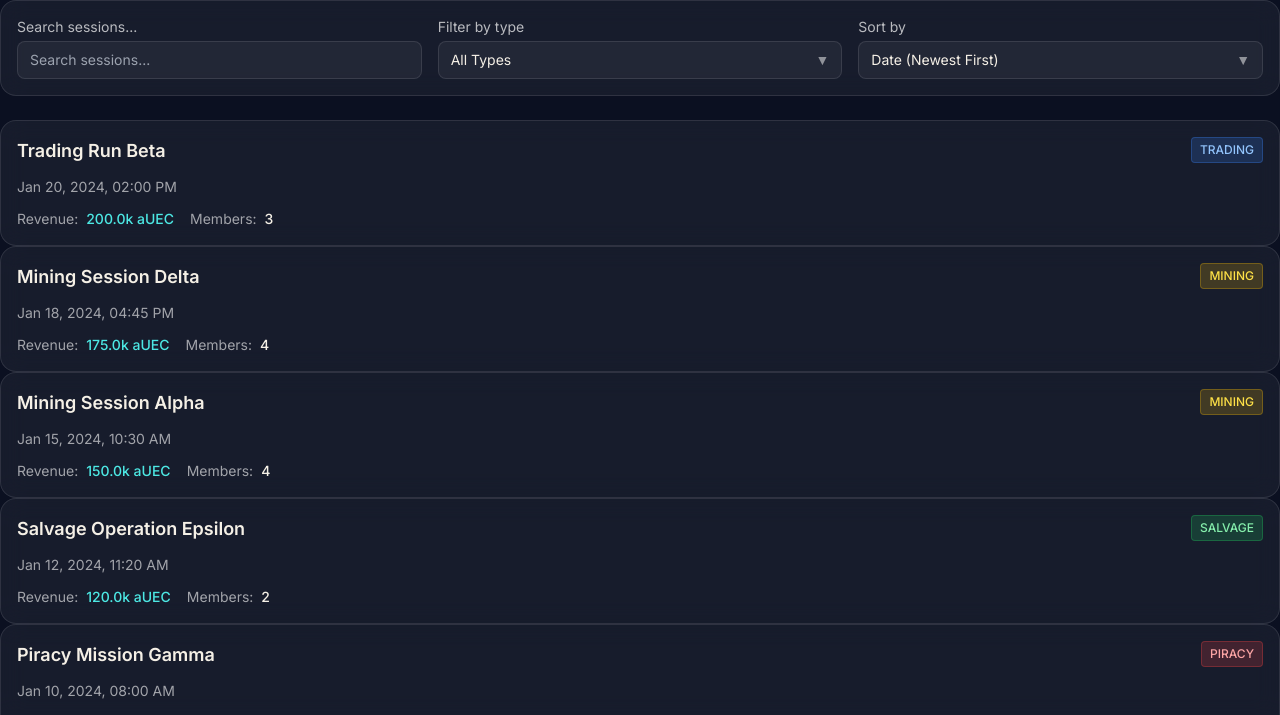
Scenario: SessionList - Search Filtering › should show empty state when search matches no sessions
Type "nonexistent" into the field with placeholder "Search sessions...".
click(219, 60); type("nonexistent")  # box [17,41,422,79]
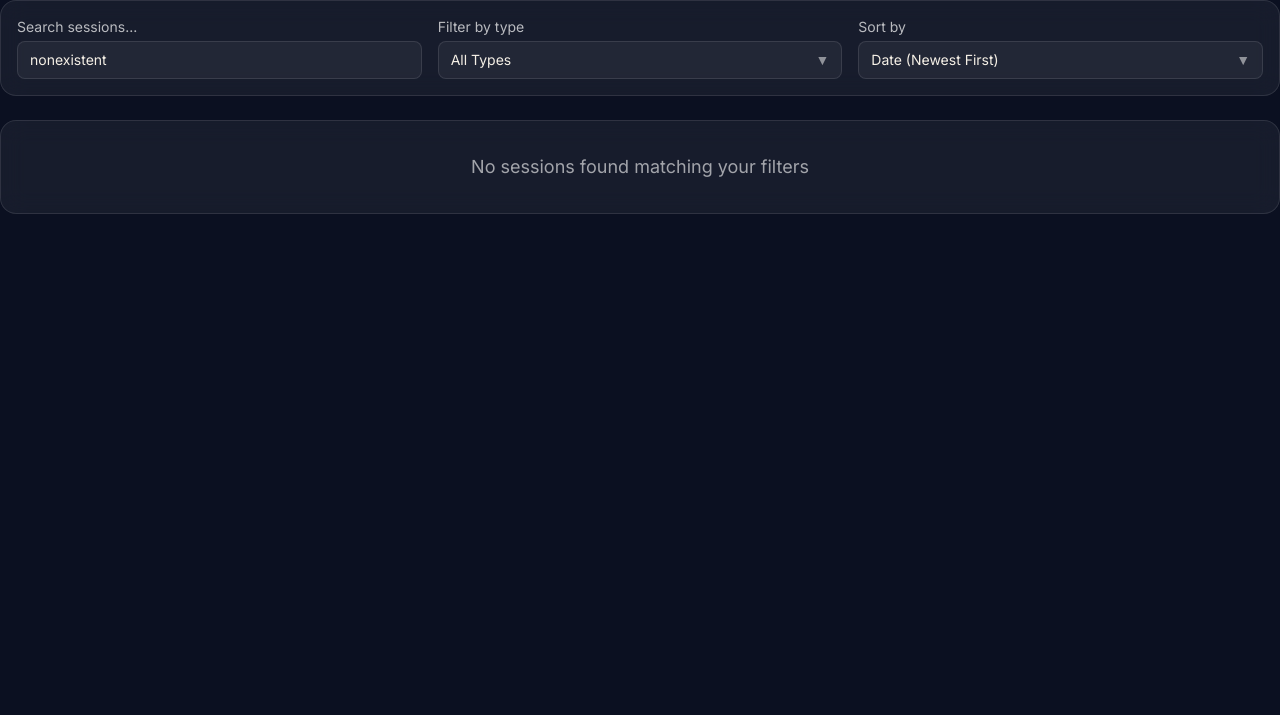
Expected: the text "No sessions found matching your filters" is shown, [471,156,809,177]
